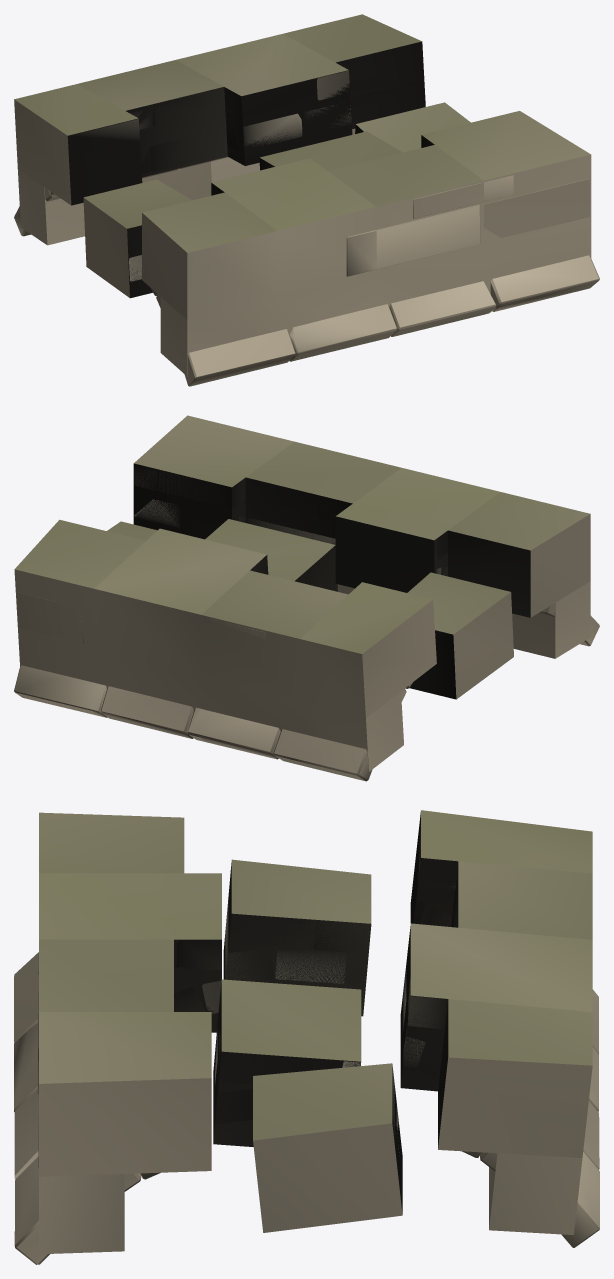
The model's file is arena_vault_a_cracked.glb.
3 views of the same model, one above another, from view 1: azimuth 30°, elevation 25°; view 2: azimuth 150°, elevation 25°; view 3: azimuth 270°, elevation 25° (orthographic). The views are drawn at different scales.
Parts seen in each view (by area): view 1: arena_vault_a_cracked_far, arena_vault_a_cracked; view 2: arena_vault_a_cracked_far, arena_vault_a_cracked; view 3: arena_vault_a_cracked_far, arena_vault_a_cracked.
Part boxes in pixels (box(x1,y1,x2,y2)): arena_vault_a_cracked_far: box(14, 14, 591, 376); arena_vault_a_cracked: box(14, 42, 599, 386); arena_vault_a_cracked_far: box(14, 415, 590, 771); arena_vault_a_cracked: box(14, 464, 599, 781); arena_vault_a_cracked_far: box(39, 810, 592, 1254); arena_vault_a_cracked: box(14, 812, 599, 1264).
Bounding box in the file's own units: 18.85 × 6.45 × 17.15.
